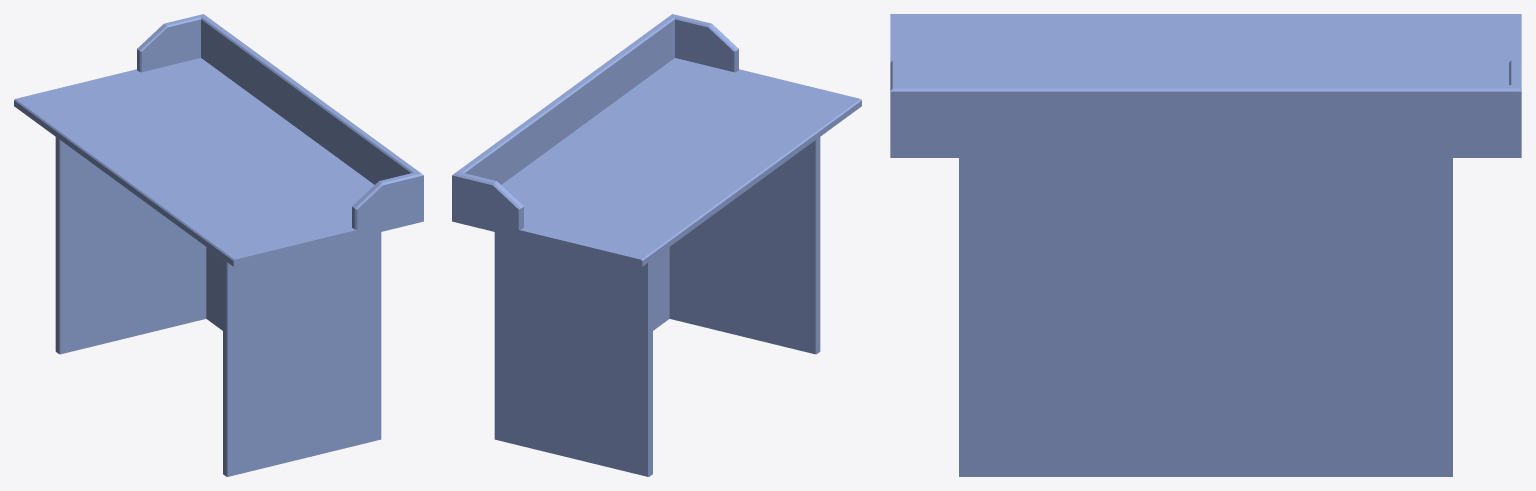
The model's file is dj-booth.fbx.
3 views of the same model, side by side, from view 1: azimuth 30°, elevation 25°; view 2: azimuth 150°, elevation 25°; view 3: azimuth 270°, elevation 25° (orthographic). The views are drawn at different scales.
Visible parts, largest first — view 1: Cube.001; view 2: Cube.001; view 3: Cube.001.
Part boxes in pixels (x1=…): Cube.001: x1=14, y1=14, x2=423, y2=476; Cube.001: x1=452, y1=14, x2=861, y2=476; Cube.001: x1=890, y1=14, x2=1521, y2=476.
Bounding box in the file's own units: 100 × 140 × 200.
